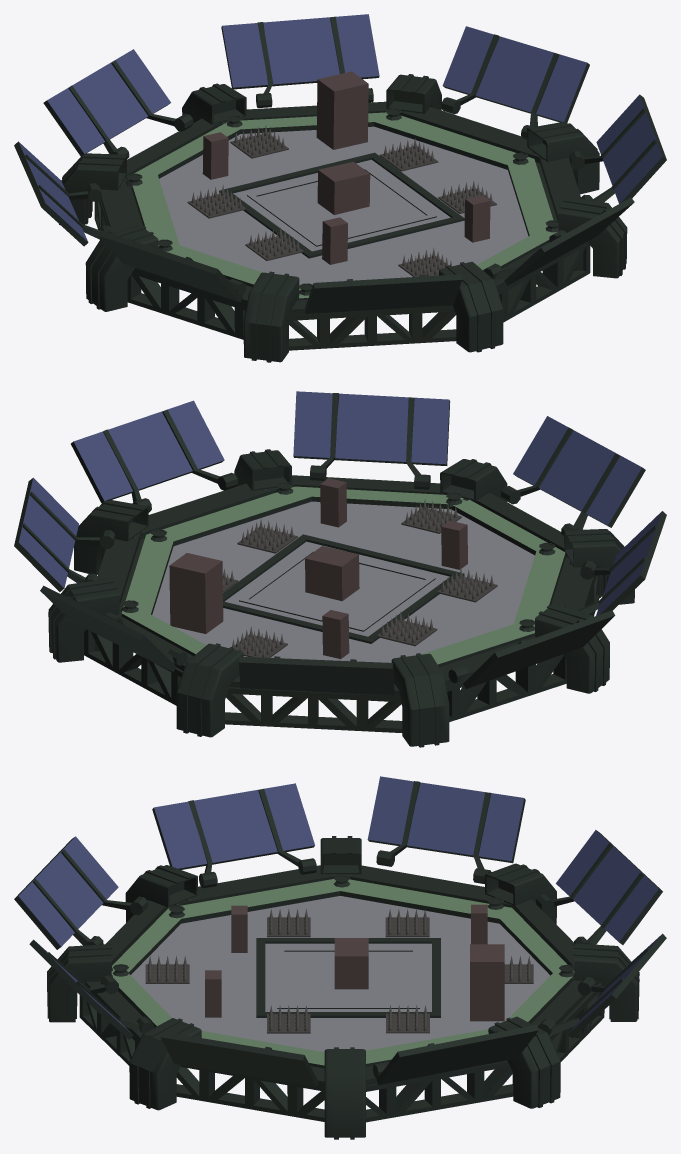
The model's file is High Arena.fbx.
3 views of the same model, one above another, from view 1: azimuth 30°, elevation 25°; view 2: azimuth 150°, elevation 25°; view 3: azimuth 270°, elevation 25° (orthographic). The views are drawn at different scales.
Visible parts, largest first — view 1: Cube.003, Cube.005, Cube, Cube.002, Cube.006, Cube.001, OPM0041.003, OPM0041.001, OPM0041.005, OPM0041, OPM0041.004, OPM0041.002; view 2: Cube.003, Cube.005, Cube, Cube.001, Cube.002, Cube.006, OPM0041.002, OPM0041.001, OPM0041, OPM0041.004, OPM0041.005; view 3: Cube.003, Cube.005, Cube, OPM0041, OPM0041.001, OPM0041.003, OPM0041.004, OPM0041.002, Cube.001, Cube.002, Cube.006, OPM0041.005.
Boxes of the visible parts, x1,y1,x2,y2 form: Cube.003: (14, 14, 666, 362); Cube.005: (316, 71, 368, 149); Cube: (317, 161, 370, 214); Cube.002: (464, 195, 490, 242); Cube.006: (202, 132, 228, 179); Cube.001: (322, 217, 347, 264); OPM0041.003: (379, 138, 438, 171); OPM0041.001: (245, 227, 303, 260); OPM0041.005: (230, 125, 288, 158); OPM0041: (187, 185, 245, 218); OPM0041.004: (398, 247, 451, 276); OPM0041.002: (438, 180, 496, 213); Cube.003: (14, 391, 666, 747); Cube.005: (169, 553, 223, 633); Cube: (305, 546, 359, 601); Cube.001: (441, 520, 467, 569); Cube.002: (320, 478, 346, 527); Cube.006: (322, 610, 349, 658); OPM0041.002: (237, 518, 297, 553); OPM0041.001: (437, 568, 497, 602); OPM0041: (377, 612, 437, 646); OPM0041.004: (401, 499, 461, 533); OPM0041.005: (232, 626, 287, 657); Cube.003: (14, 776, 666, 1139); Cube.005: (470, 944, 504, 1021); Cube: (334, 938, 368, 989); OPM0041: (385, 909, 429, 937); OPM0041.001: (267, 908, 310, 937); OPM0041.003: (386, 1005, 429, 1033); OPM0041.004: (145, 955, 189, 983); OPM0041.002: (267, 1005, 310, 1033); Cube.001: (231, 905, 247, 952); Cube.002: (205, 970, 221, 1017); Cube.006: (471, 904, 487, 944); OPM0041.005: (504, 955, 533, 983).
Bounding box in the file's own units: 914 × 152 × 893.
